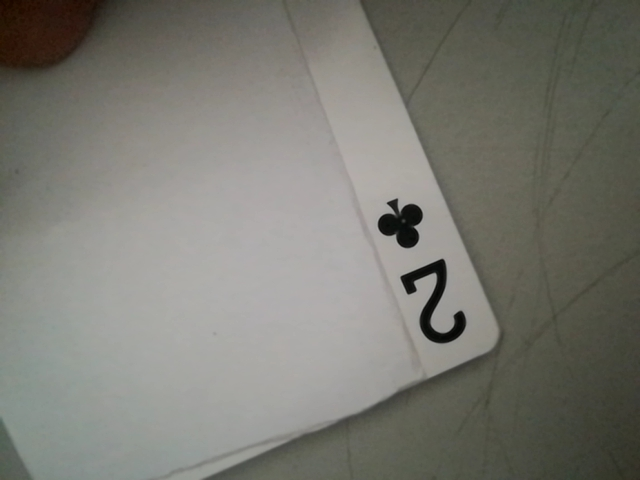mh 2: (370, 183, 482, 363)
